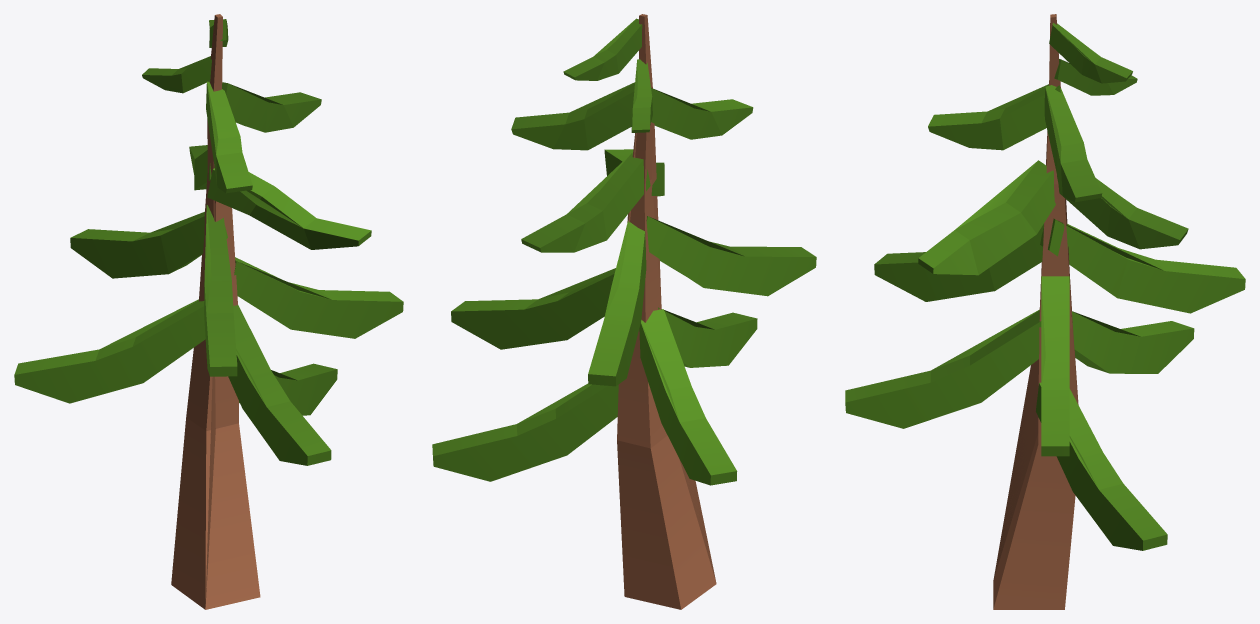
Rendered from Tree.fbx.
The picture shows the model from 3 angles, left to right: view 1: azimuth 30°, elevation 25°; view 2: azimuth 150°, elevation 25°; view 3: azimuth 270°, elevation 25°; orthographic projection. The views are drawn at different scales.
Visible parts, largest first — view 1: Tree_LOD_2, Tree_LOD_3; view 2: Tree_LOD_2, Tree_LOD_3; view 3: Tree_LOD_2, Tree_LOD_3.
Part boxes in pixels (x1,y1,x2,y2): Tree_LOD_2: (14,14,403,609); Tree_LOD_3: (101,21,330,603); Tree_LOD_2: (432,14,816,609); Tree_LOD_3: (517,20,743,582); Tree_LOD_2: (845,14,1245,609); Tree_LOD_3: (932,27,1162,580).
Bounding box in the file's own units: 3.74 × 3.81 × 6.17.
1 material, 1 textured.
